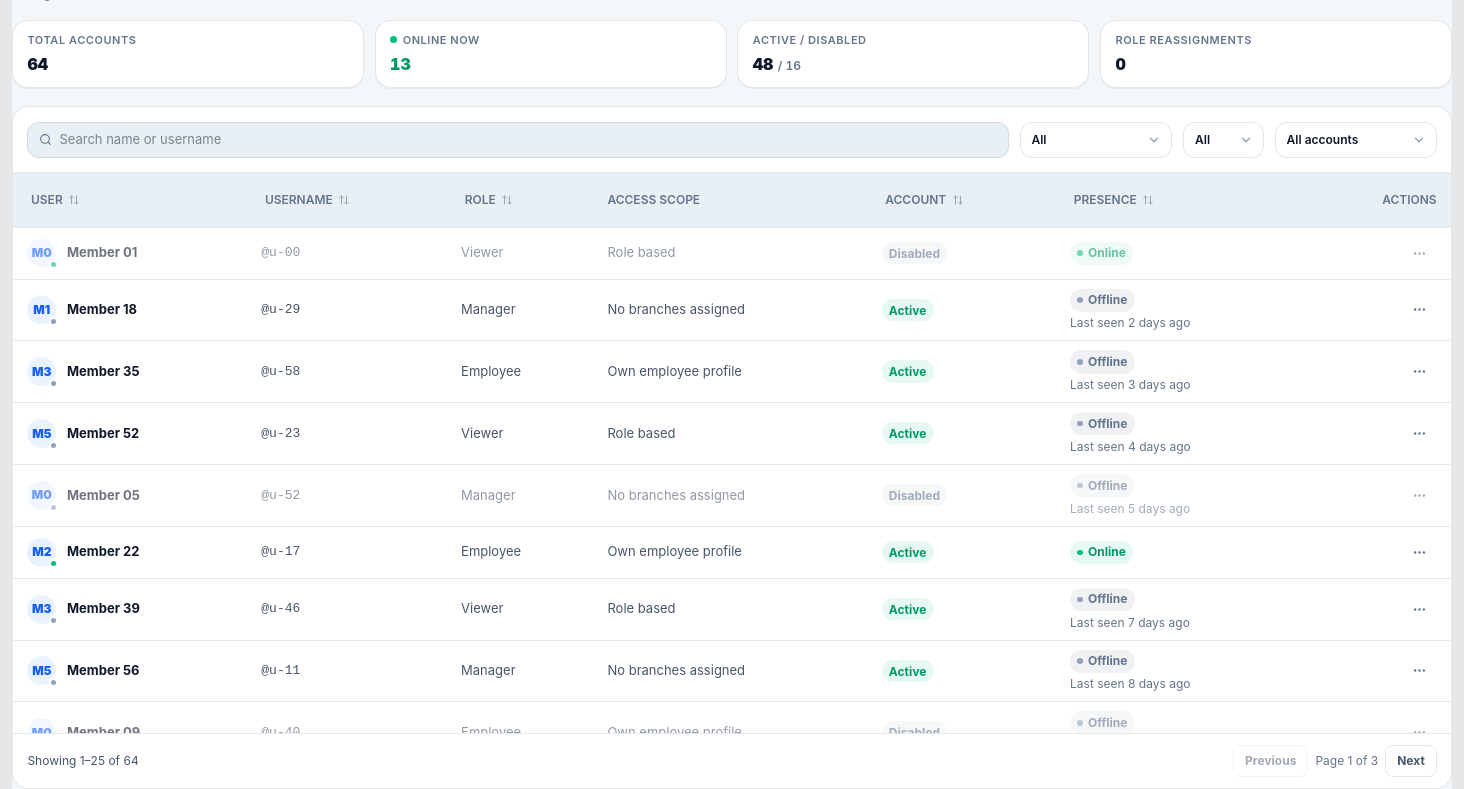
Scenario: Users default order and paging › moves between pages and disables the ends
The image size is (1464, 789).
(page scrolled)
Expected: the button "Previous" is disabled, [1233, 745, 1308, 777]
Click the button "Next".
click(1411, 761)  # box [1385, 745, 1437, 777]
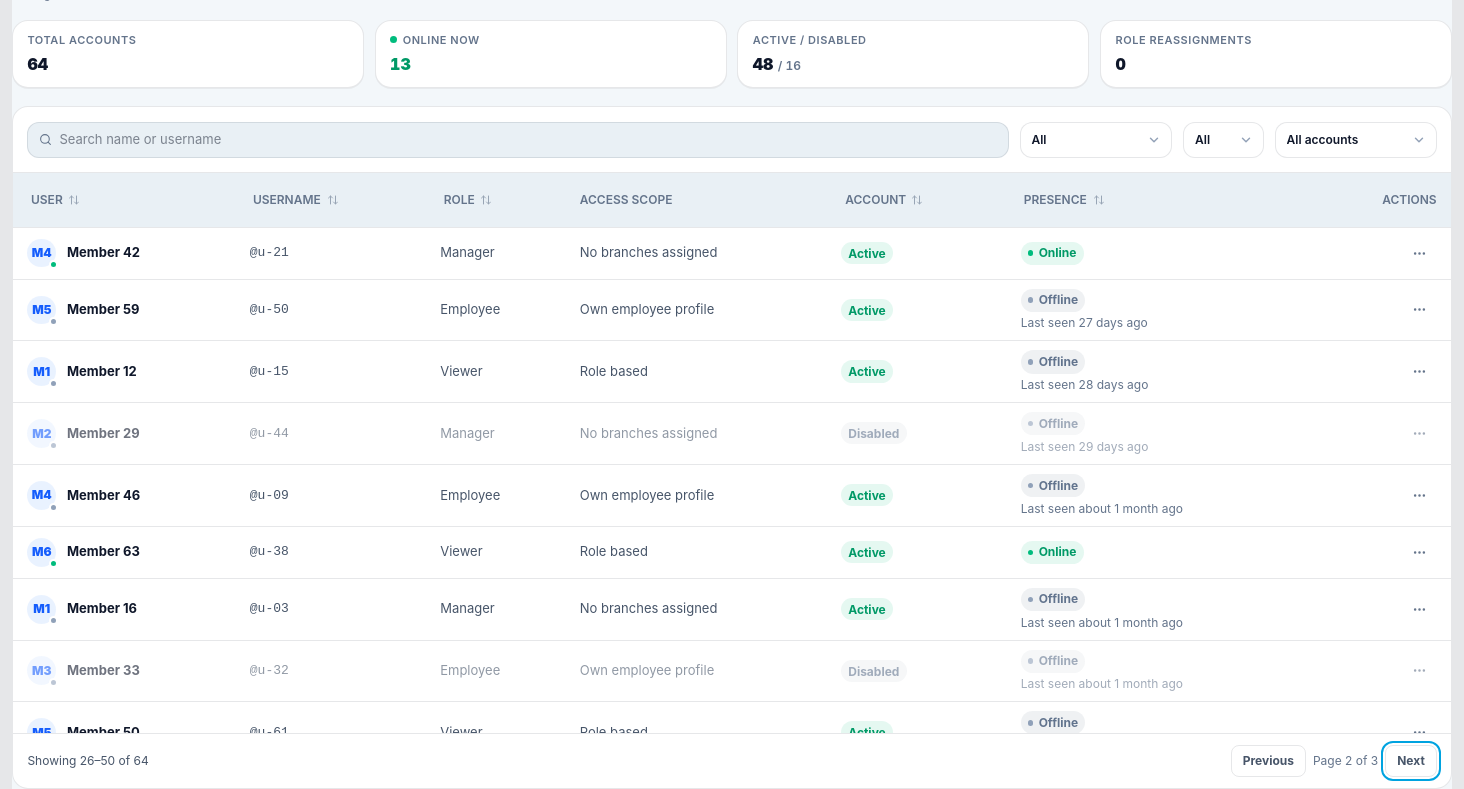
Now the text "Showing 26–50 of 64" is shown, box [27, 753, 149, 769]
Click the button "Next".
click(1411, 761)  # box [1385, 745, 1437, 777]
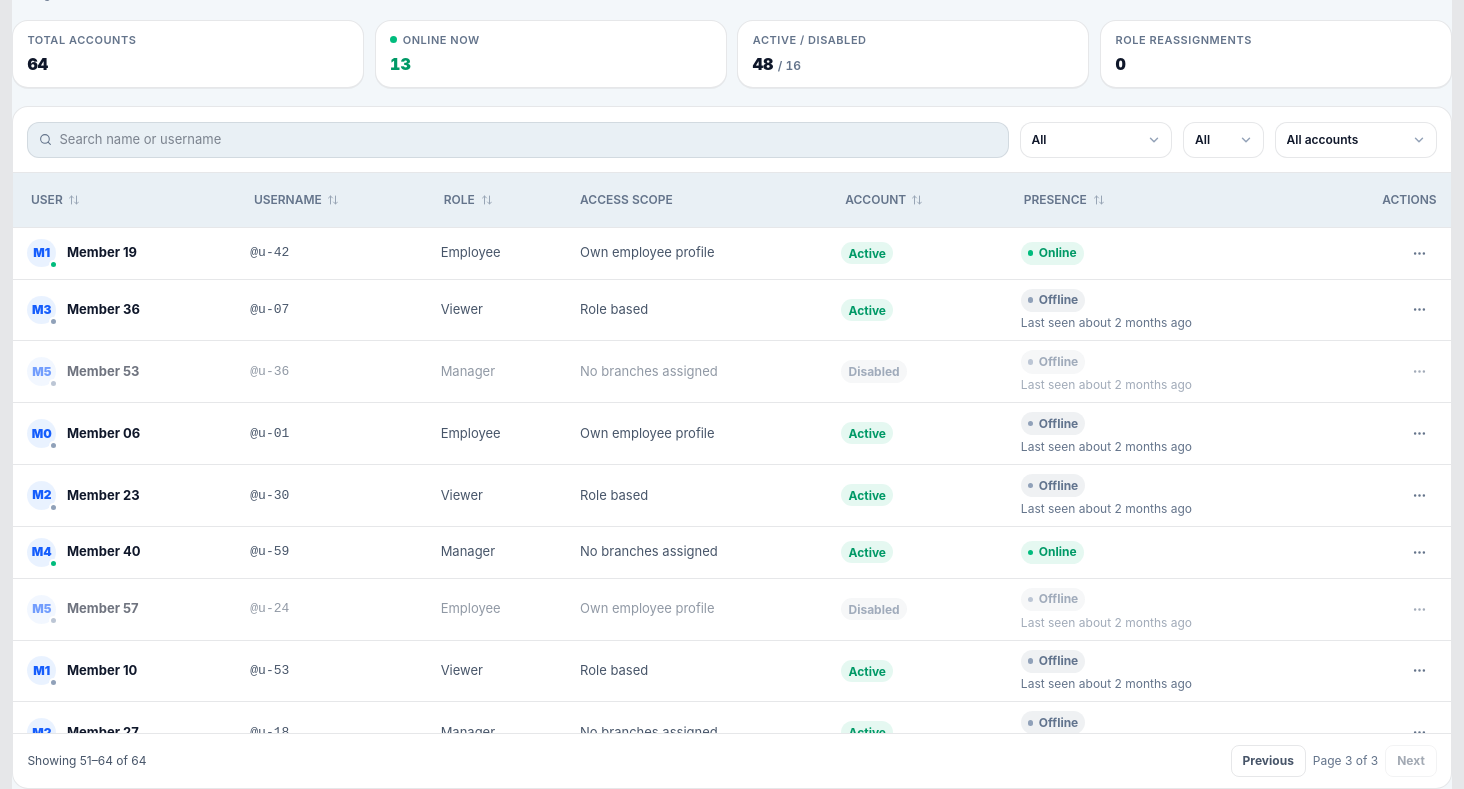
Now the text "Showing 51–64 of 64" is shown, box [27, 753, 146, 769]
Now the button "Next" is disabled, box [1385, 745, 1437, 777]
